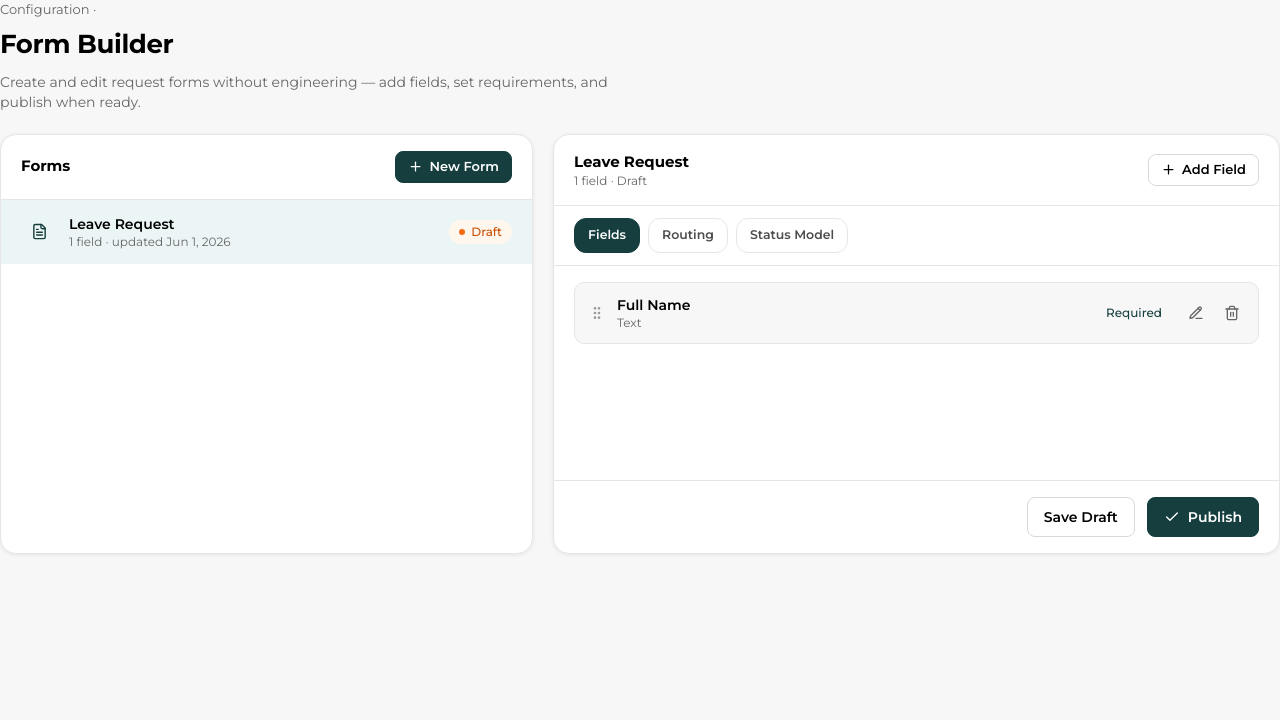
it: adding a field via the modal persists it to the draft
The width and height of the screenshot is (1280, 720).
Expected: the text "Full Name" is shown, top-left (617, 296), bottom-right (691, 314)
Click the button "Add Field".
click(1204, 170)  # box top-left (1148, 154), bottom-right (1259, 186)
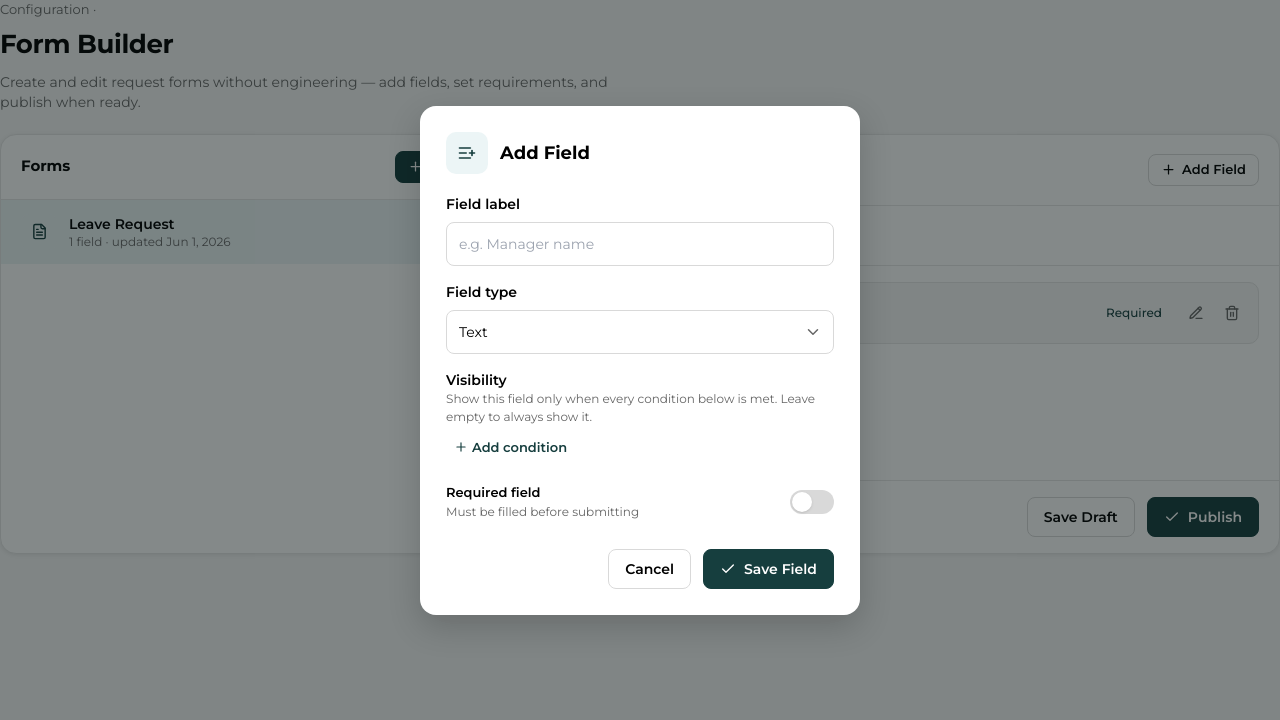
Type "Manager Name" into the field labelled "Field label".
click(640, 244); type("Manager Name")  # box top-left (459, 234), bottom-right (821, 254)
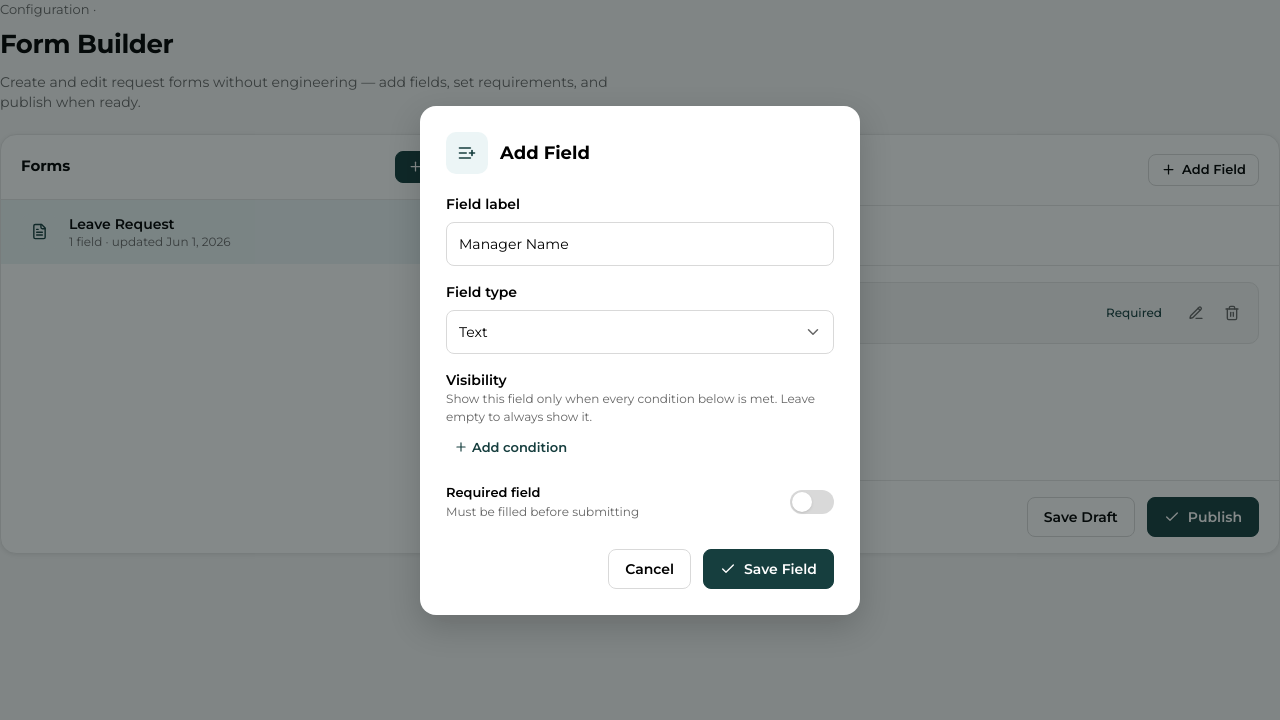
Click the button "Save Field".
click(768, 568)  # box top-left (703, 548), bottom-right (834, 588)
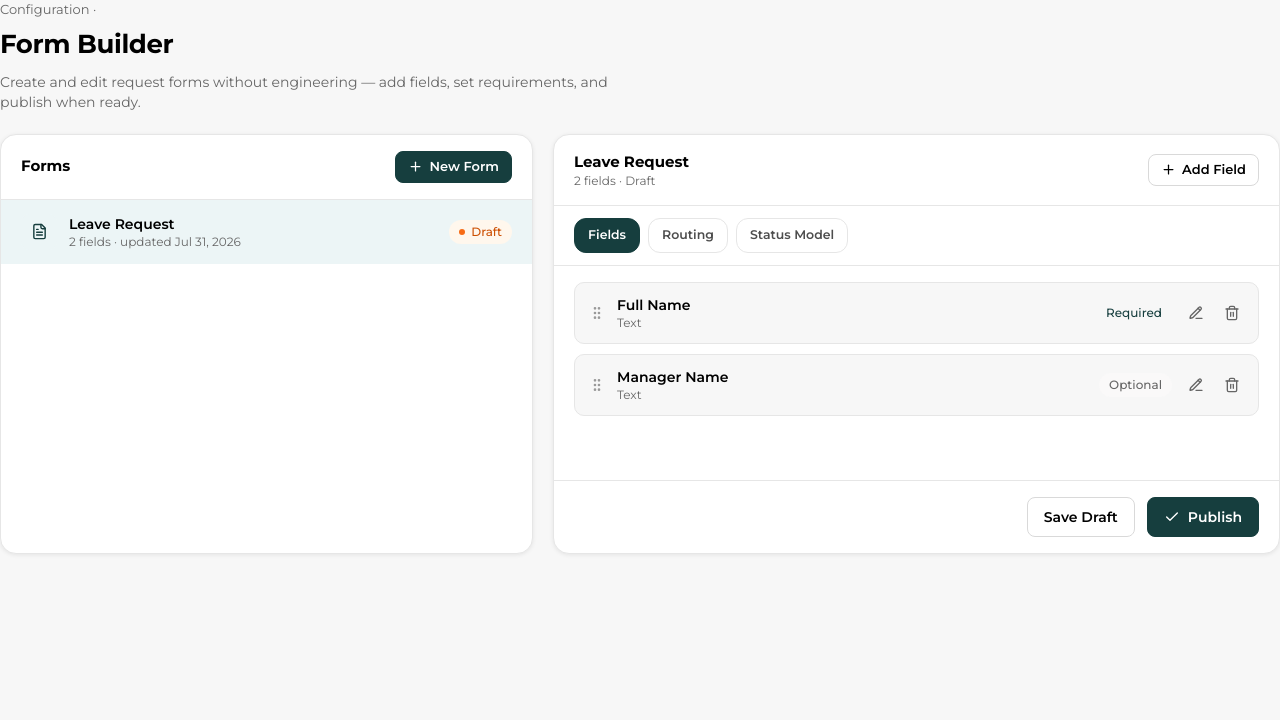
Expected: the text "Manager Name" is shown, top-left (617, 368), bottom-right (729, 386)
